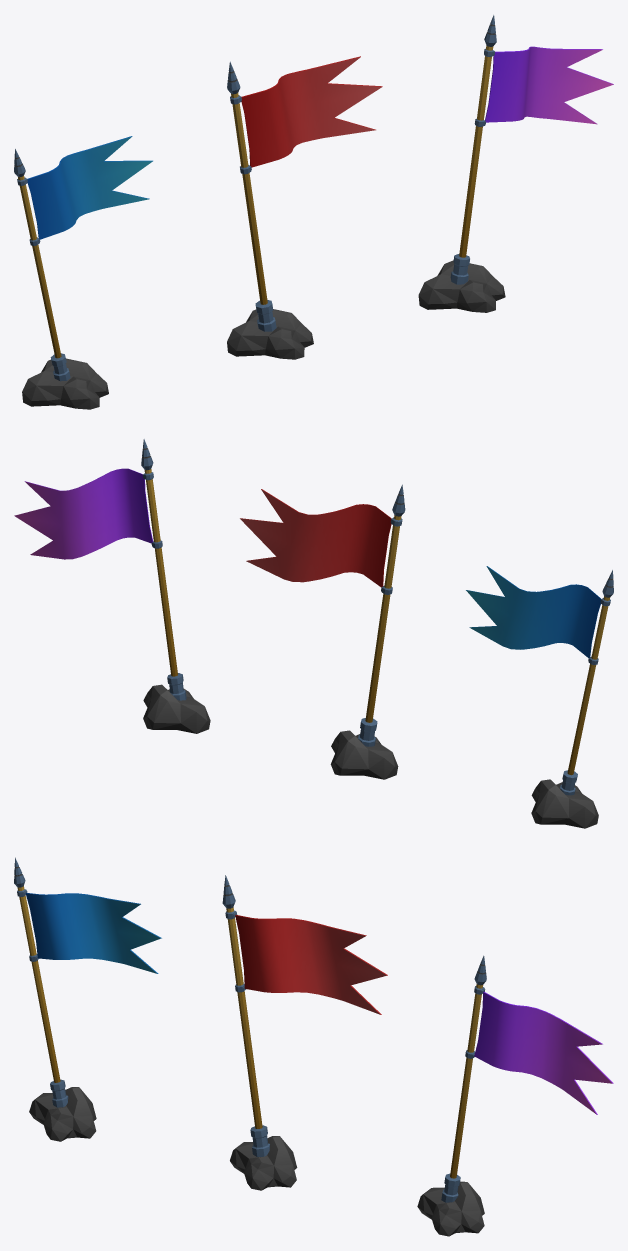
File: scene_grnFRLbTQK.glb
3 views of the same model, one above another, from view 1: azimuth 30°, elevation 25°; view 2: azimuth 150°, elevation 25°; view 3: azimuth 330°, elevation 25° (orthographic). The views are drawn at different scales.
Parts seen in each view (by area): view 1: Plane.004, Plane.005, Plane.006, Cube.024, Cube.004, Cube.003, Cylinder.006, Cylinder.007, Cylinder.008; view 2: Plane.004, Plane.005, Plane.006, Cylinder.006, Cube.024, Cube.004, Cube.003, Cylinder.007, Cylinder.008; view 3: Plane.004, Plane.005, Plane.006, Cylinder.006, Cube.024, Cube.004, Cube.003, Cylinder.007, Cylinder.008.
Part boxes in pixels (x1=…): Plane.004: x1=241, y1=56, x2=382, y2=167; Plane.005: x1=485, y1=46, x2=613, y2=124; Plane.006: x1=27, y1=136, x2=152, y2=239; Cube.024: x1=22, y1=358, x2=108, y2=409; Cube.004: x1=418, y1=260, x2=505, y2=312; Cube.003: x1=227, y1=309, x2=313, y2=359; Cylinder.006: x1=227, y1=61, x2=276, y2=331; Cylinder.007: x1=450, y1=15, x2=496, y2=284; Cylinder.008: x1=14, y1=149, x2=70, y2=381; Plane.004: x1=240, y1=489, x2=391, y2=587; Plane.005: x1=14, y1=468, x2=153, y2=559; Plane.006: x1=466, y1=566, x2=601, y2=658; Cylinder.006: x1=358, y1=484, x2=405, y2=746; Cube.024: x1=531, y1=779, x2=598, y2=828; Cube.004: x1=143, y1=684, x2=210, y2=733; Cube.003: x1=330, y1=730, x2=398, y2=779; Cylinder.007: x1=141, y1=439, x2=186, y2=700; Cylinder.008: x1=559, y1=570, x2=613, y2=795; Plane.004: x1=235, y1=915, x2=387, y2=1014; Plane.005: x1=474, y1=991, x2=613, y2=1114; Plane.006: x1=25, y1=892, x2=161, y2=973; Cylinder.006: x1=222, y1=875, x2=269, y2=1157; Cube.024: x1=29, y1=1087, x2=96, y2=1141; Cube.004: x1=417, y1=1181, x2=484, y2=1236; Cube.003: x1=230, y1=1136, x2=297, y2=1190; Cylinder.007: x1=441, y1=955, x2=486, y2=1202; Cylinder.008: x1=14, y1=857, x2=68, y2=1107.
Size of the model in its own units: 9.17 by 4.31 by 1.04.
1 material, 1 textured.
